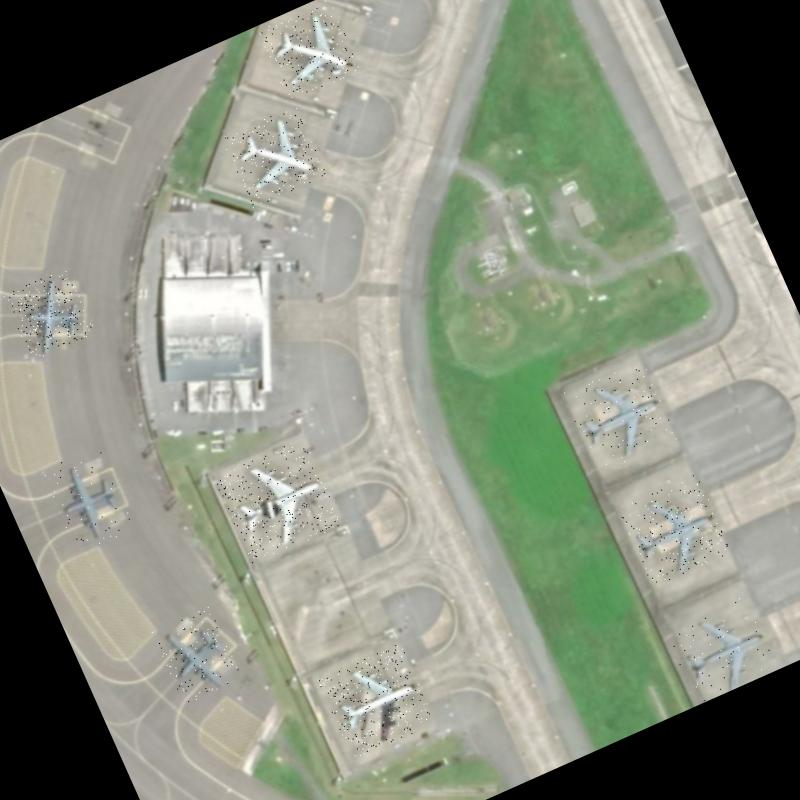A11: (221, 104, 327, 208), (257, 0, 361, 102)
A14: (562, 358, 680, 476), (618, 473, 732, 588), (664, 594, 779, 704)
A2: (40, 446, 136, 554), (152, 606, 243, 705), (3, 267, 97, 361)
A7: (213, 436, 343, 565), (318, 643, 436, 760)
